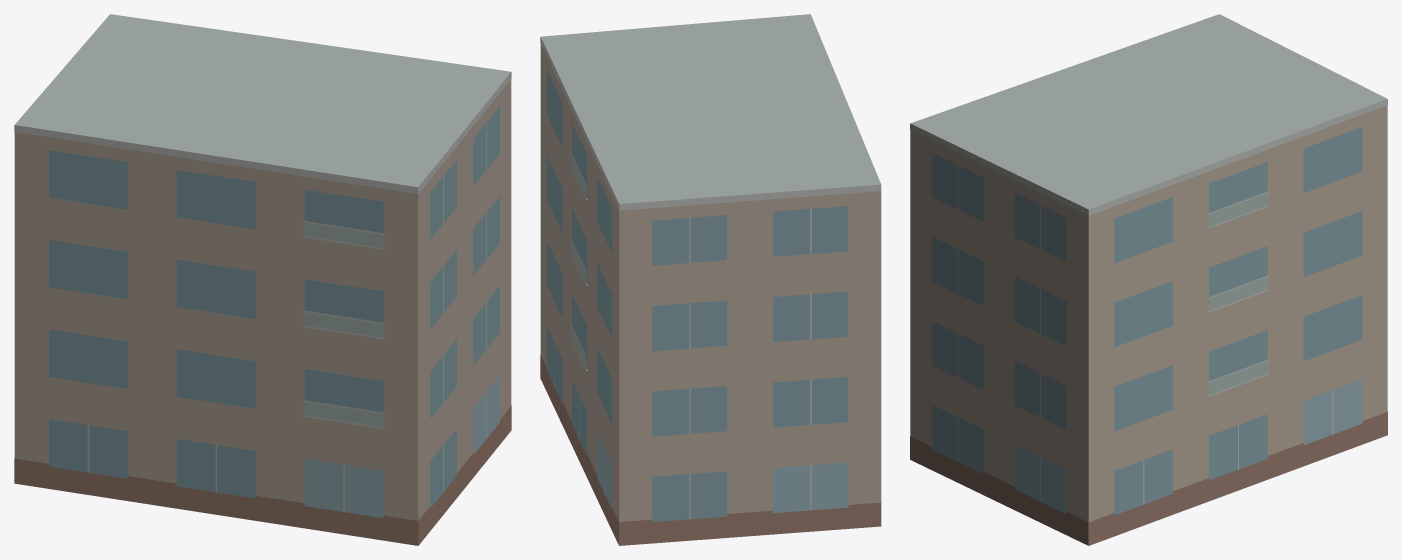
Rendered from survey-upis-32640242.glb.
The picture shows the model from 3 angles, left to right: view 1: azimuth 30°, elevation 25°; view 2: azimuth 150°, elevation 25°; view 3: azimuth 270°, elevation 25°; orthographic projection. The views are drawn at different scales.
Visible parts, largest first — view 1: survey-upis-32640242.tmp; view 2: survey-upis-32640242.tmp; view 3: survey-upis-32640242.tmp.
Boxes of the visible parts, x1=… form: survey-upis-32640242.tmp: x1=14, y1=14, x2=511, y2=545; survey-upis-32640242.tmp: x1=540, y1=14, x2=881, y2=545; survey-upis-32640242.tmp: x1=910, y1=14, x2=1387, y2=545.
Bounding box in the file's own units: 15.97 × 12.8 × 16.48.
